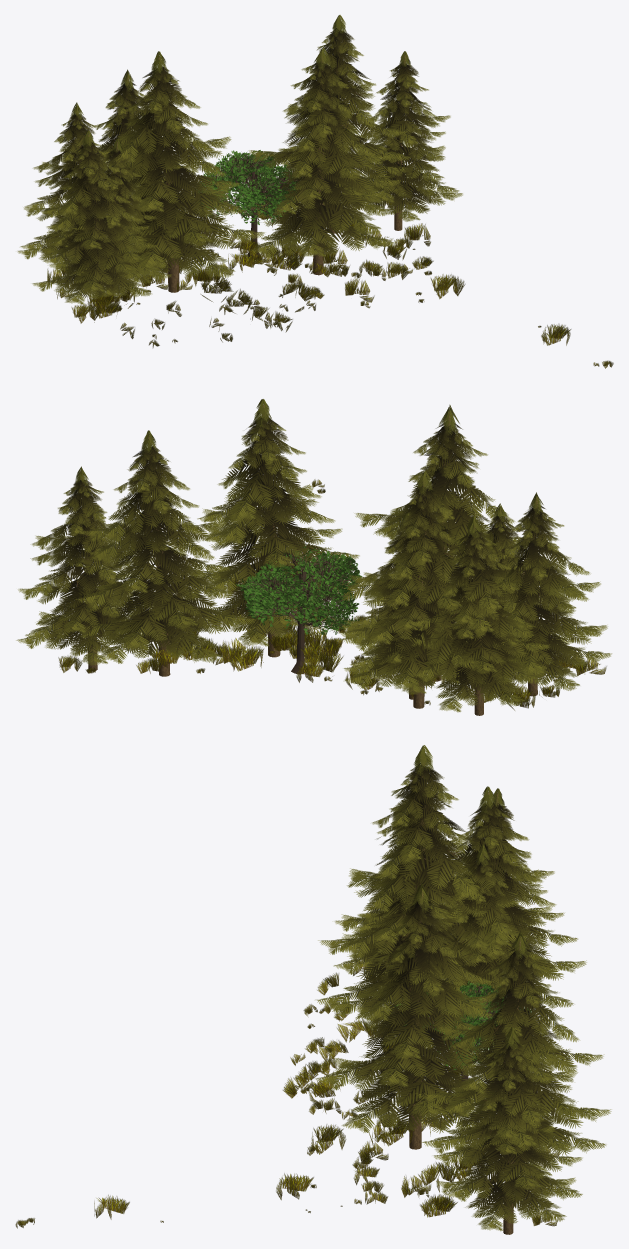
The picture shows the model from 3 angles, top to bottom: view 1: azimuth 30°, elevation 25°; view 2: azimuth 150°, elevation 25°; view 3: azimuth 270°, elevation 25°; orthographic projection. The views are drawn at different scales.
Parts seen in each view (by area): view 1: Low Poly Stylized 2D Grass.3312; view 2: Low Poly Stylized 2D Grass.3312; view 3: Low Poly Stylized 2D Grass.3312.
Part boxes in pixels (x1=…): Low Poly Stylized 2D Grass.3312: x1=17, y1=15, x2=613, y2=368; Low Poly Stylized 2D Grass.3312: x1=16, y1=399, x2=611, y2=715; Low Poly Stylized 2D Grass.3312: x1=15, y1=745, x2=611, y2=1234.
Size of the model in its own units: 29.03 by 16.43 by 27.35.
Materials: 5 (4 with a texture image).
